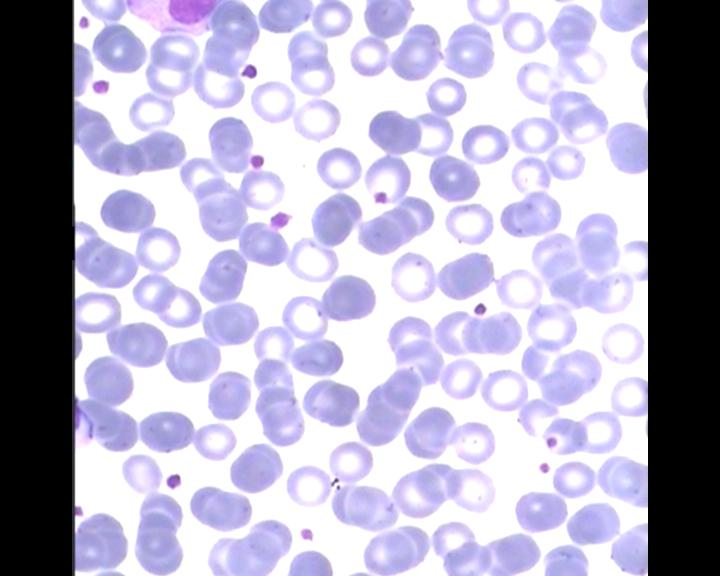mono: (126, 0, 229, 40)
